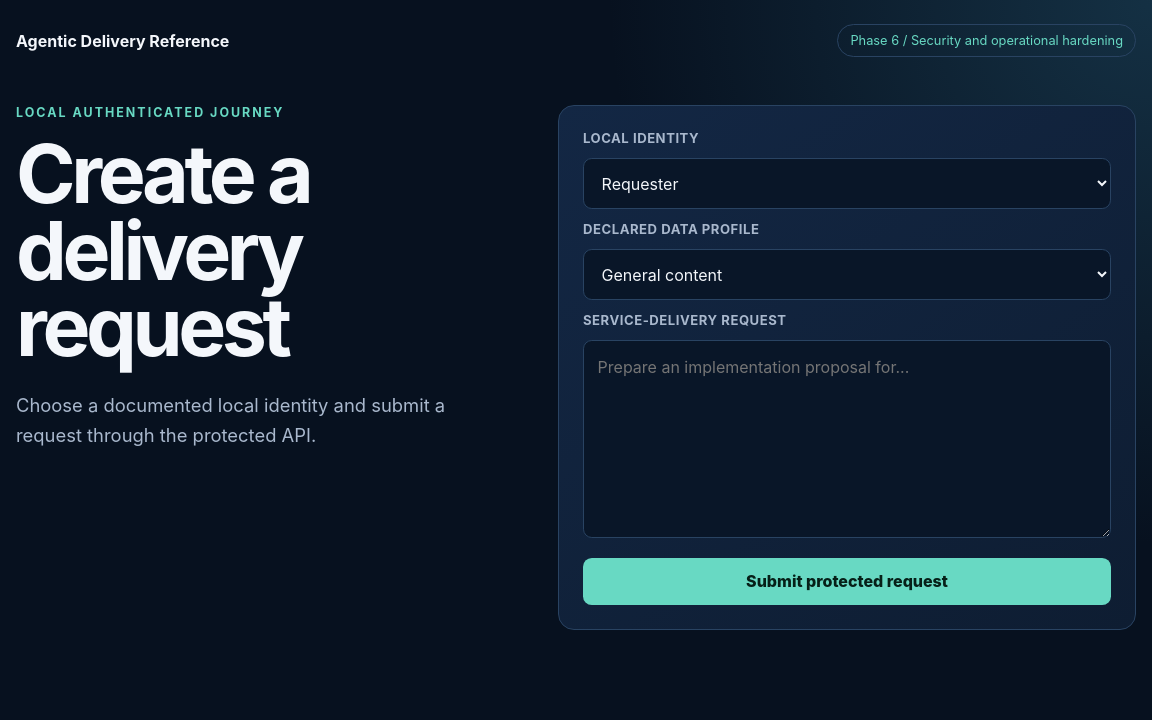
Test: governed delivery request page › handles a minimal planned response and a malformed planner problem
Step 1. Type "Prepare a minimal proposal" into the text box labelled "Service-delivery request" → {"x": 847, "y": 439}, box [583, 340, 1111, 538]
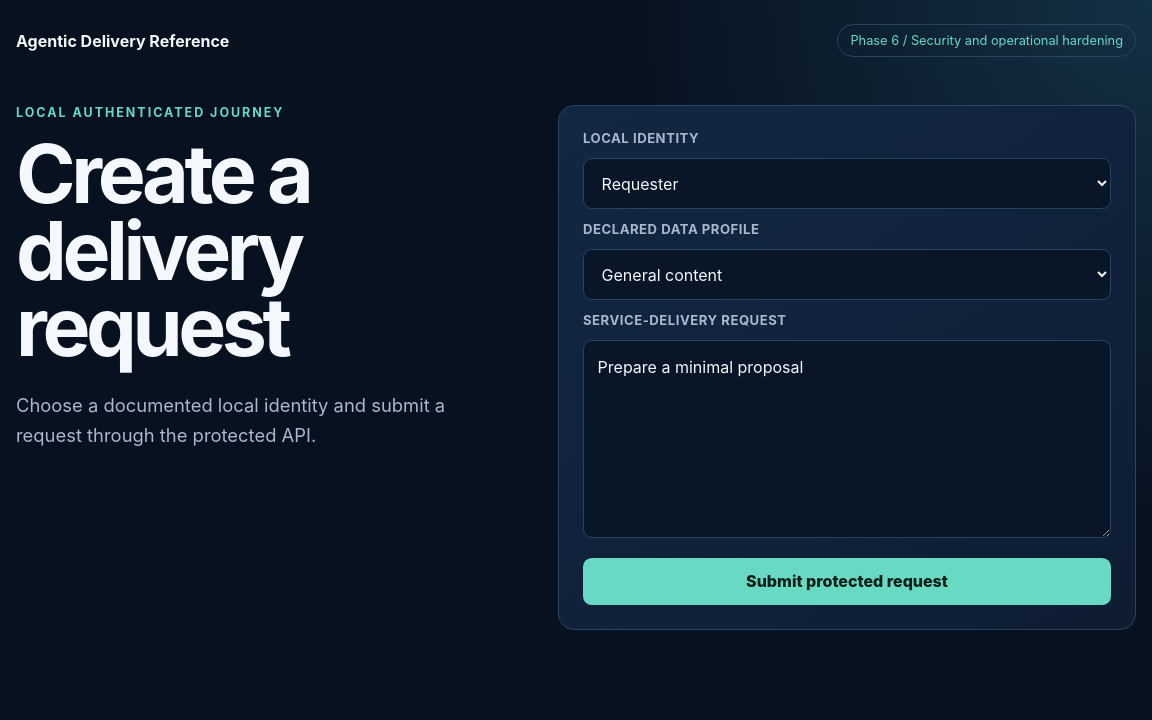
Step 2. Submit the form, box [558, 105, 1136, 630]
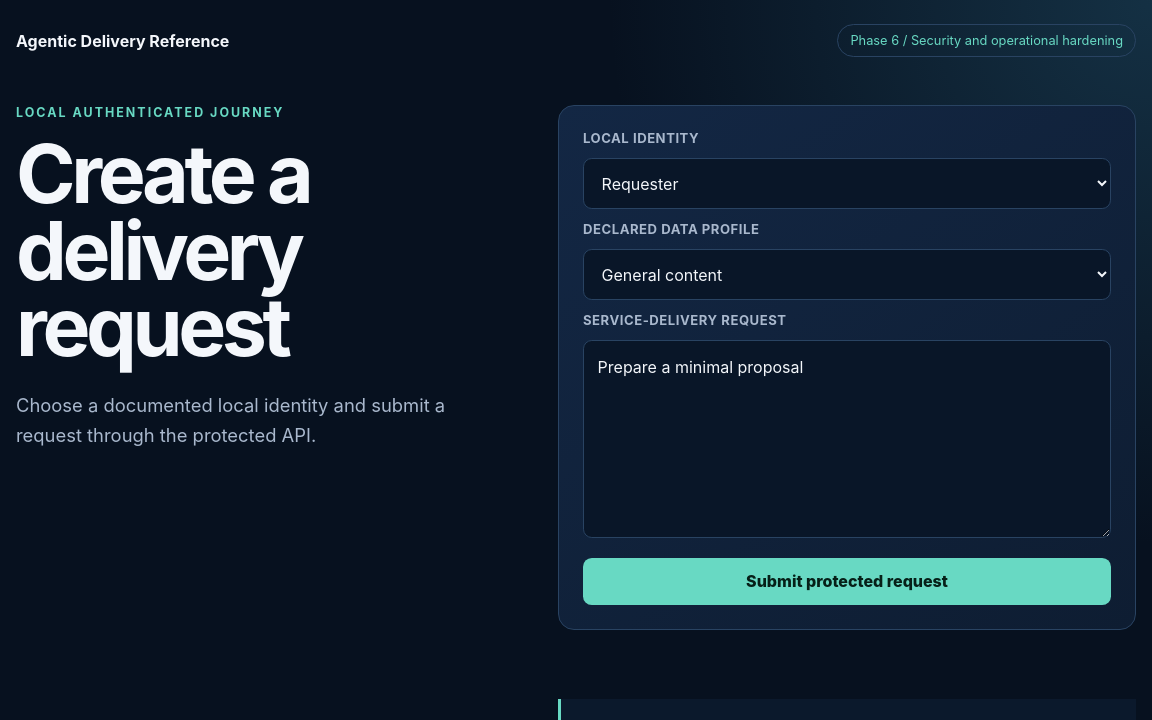
Step 3. Replace the text in the text box labelled "Service-delivery request" with "Prepare a planner failure case" → {"x": 847, "y": 439}, box [583, 340, 1111, 538]
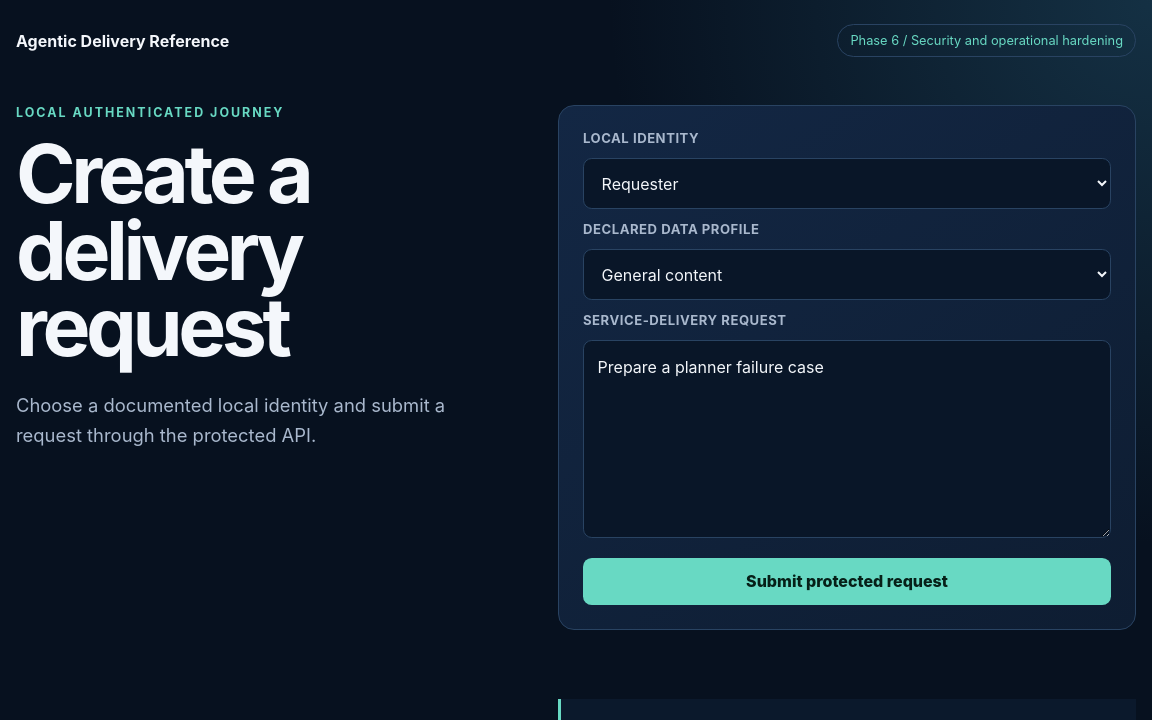
Step 4. Submit the form, box [558, 105, 1136, 630]
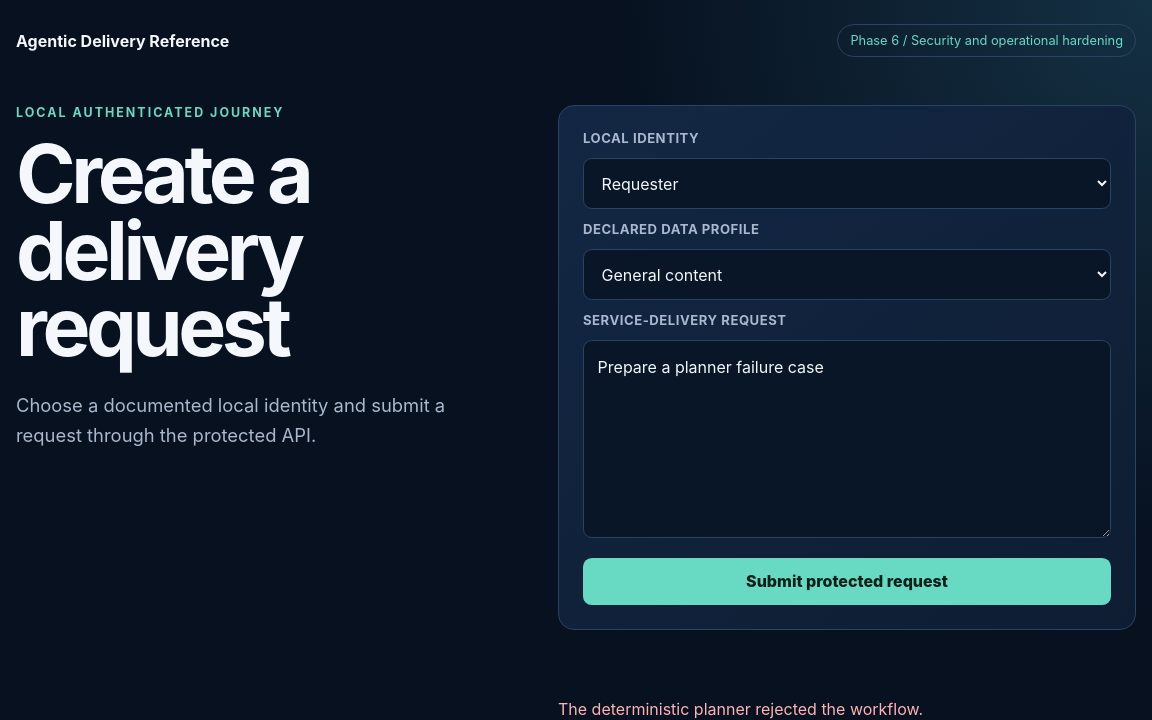
Check: the text "The deterministic planner rejected the workflow." is shown, box [558, 699, 923, 719]
